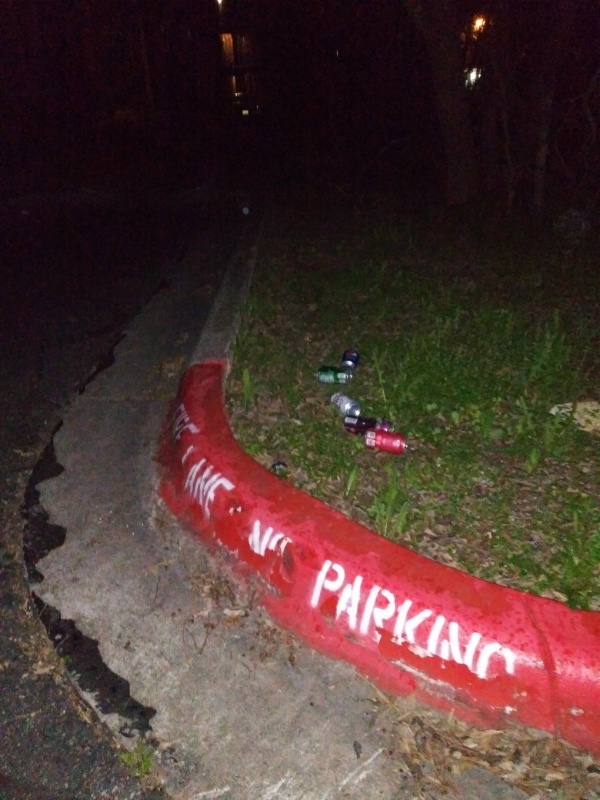can: (361, 426, 414, 457), (341, 412, 397, 438), (309, 361, 356, 387), (329, 391, 363, 416), (340, 345, 360, 370)
